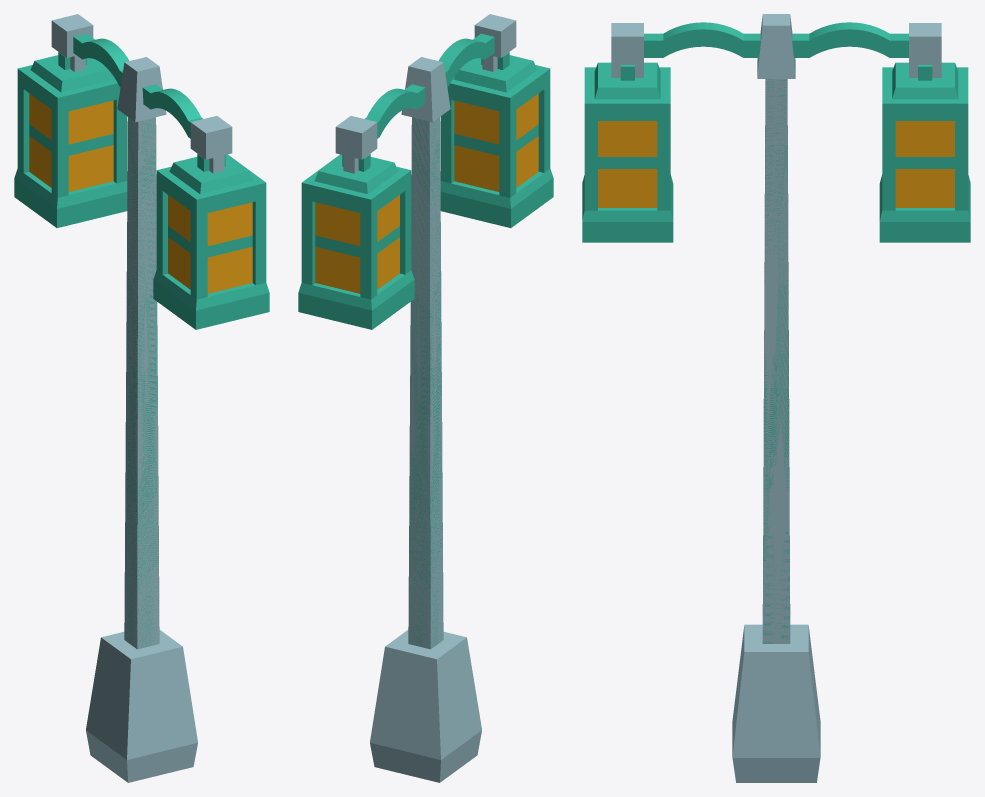
File: lightpostDouble.dae
3 views of the same model, side by side, from view 1: azimuth 30°, elevation 25°; view 2: azimuth 150°, elevation 25°; view 3: azimuth 270°, elevation 25° (orthographic). The views are drawn at different scales.
Parts seen in each view (by area): view 1: lightpostDouble; view 2: lightpostDouble; view 3: lightpostDouble.
Part boxes in pixels (x1,y1,x2,y2): lightpostDouble: [14, 14, 269, 782]; lightpostDouble: [298, 14, 553, 782]; lightpostDouble: [582, 14, 970, 782].
Size of the model in its own units: 0.1459 by 1.32 by 0.6225.
